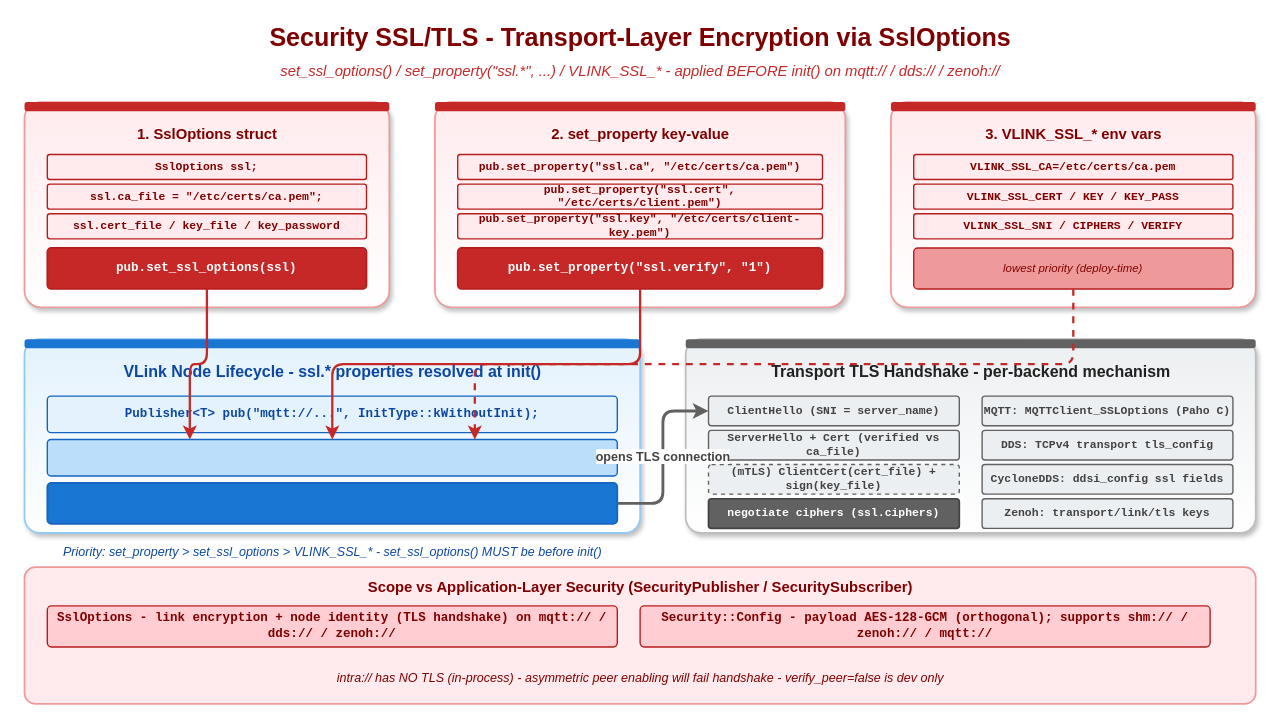
Some shapes in this 1284 by 724 pixel diagram are drawn without their labels. The centre of each missing label's shape, as x and y in pixels:
"apply SSL config (set_ssl_options / set_property / env)" goes at [331,457].
"pub.init() -> backend builds TLS context with ssl.* keys" goes at [332,502].
